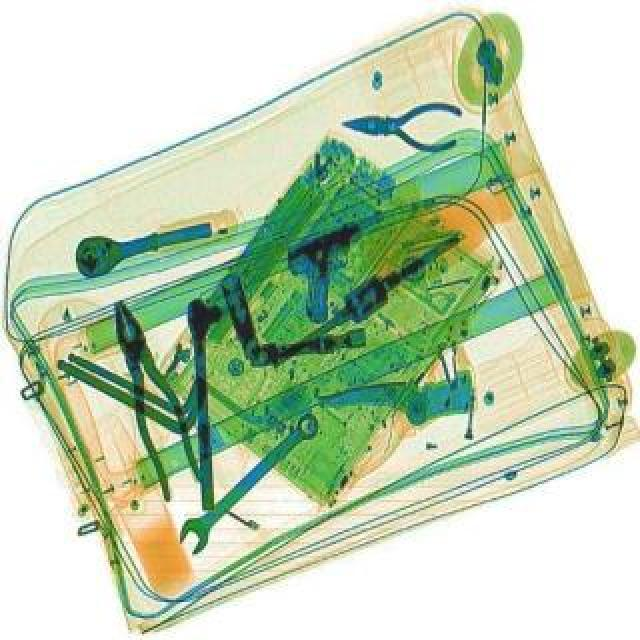gun: (278, 192, 466, 324)
scissors: (168, 406, 328, 556)
wrench: (96, 294, 210, 504), (338, 98, 462, 152)
